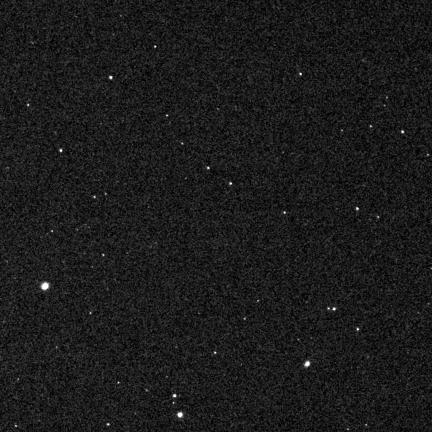blob: (41, 282, 49, 290), (177, 412, 183, 418), (304, 361, 310, 367), (401, 130, 405, 134), (229, 182, 233, 186), (207, 167, 211, 171), (109, 76, 113, 79), (370, 125, 373, 128), (59, 149, 62, 152), (166, 114, 169, 117), (300, 73, 303, 76), (173, 394, 176, 397), (356, 207, 359, 210), (154, 46, 157, 49), (27, 104, 30, 107), (333, 308, 336, 310)
